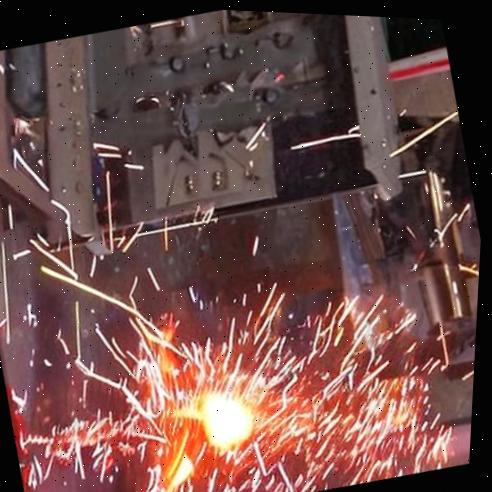fire: (17, 98, 411, 492)
